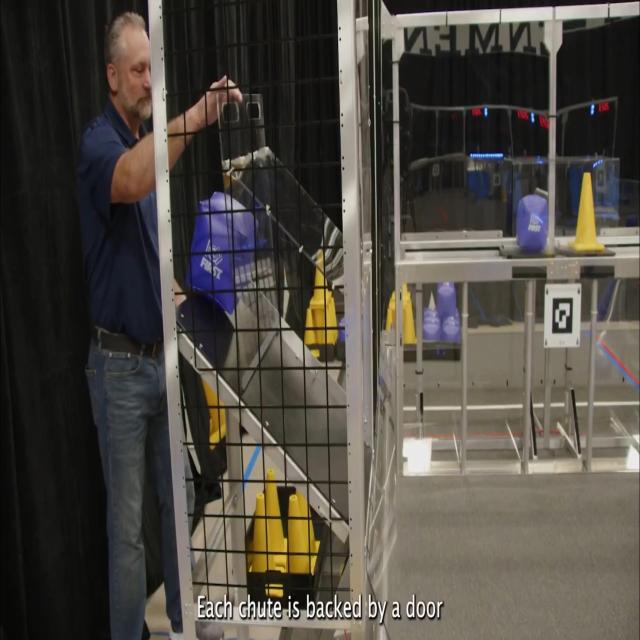frc_cone: (247, 491, 283, 594), (569, 170, 604, 254), (260, 467, 287, 565), (291, 479, 319, 559), (286, 491, 312, 576), (199, 378, 229, 449), (308, 251, 328, 306), (301, 308, 318, 351), (404, 300, 417, 345), (314, 312, 326, 354), (321, 305, 330, 349), (325, 294, 332, 342), (328, 296, 336, 334), (385, 301, 392, 334)
frc_cube: (188, 195, 257, 317), (516, 195, 547, 252), (438, 286, 457, 316), (422, 318, 440, 346), (443, 320, 459, 344), (423, 305, 440, 323), (338, 315, 347, 341)
